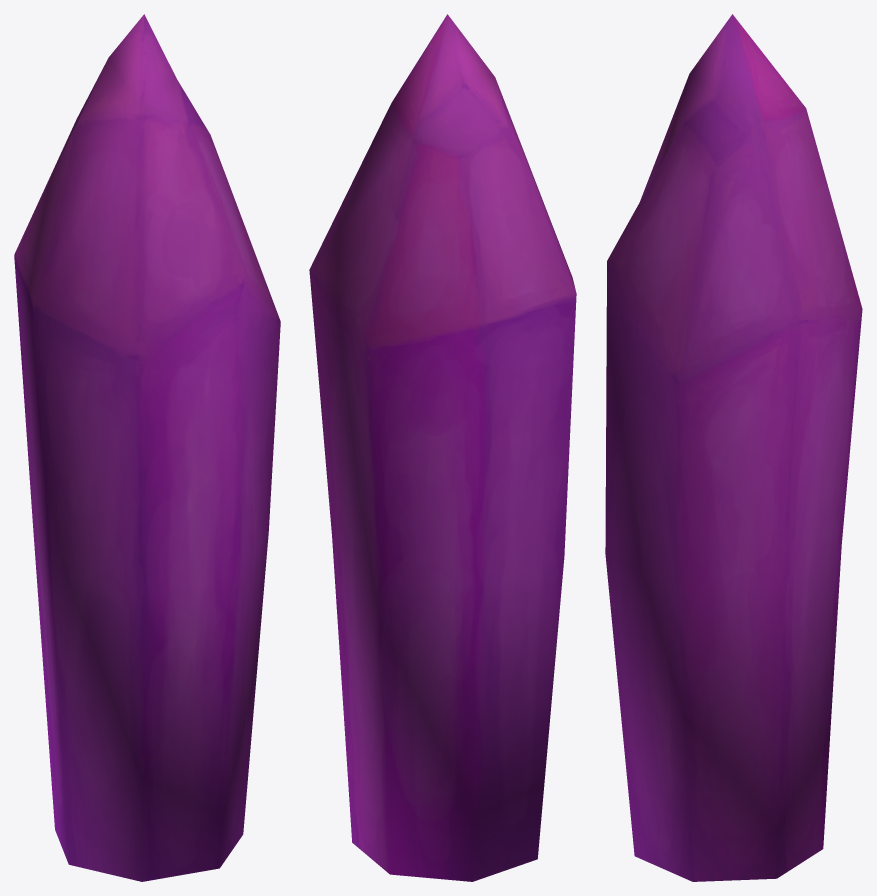
Rendered from crystal.fbx.
The picture shows the model from 3 angles, left to right: view 1: azimuth 30°, elevation 25°; view 2: azimuth 150°, elevation 25°; view 3: azimuth 270°, elevation 25°; orthographic projection.
Visible parts, largest first — view 1: Crystal; view 2: Crystal; view 3: Crystal.
Boxes of the visible parts, left/top/right/bottom form: Crystal: left=14, top=14, right=280, bottom=881; Crystal: left=309, top=14, right=576, bottom=881; Crystal: left=605, top=14, right=862, bottom=881.
Size of the model in its own units: 21.42 by 73.84 by 20.75.
Materials: 1 (1 with a texture image).
